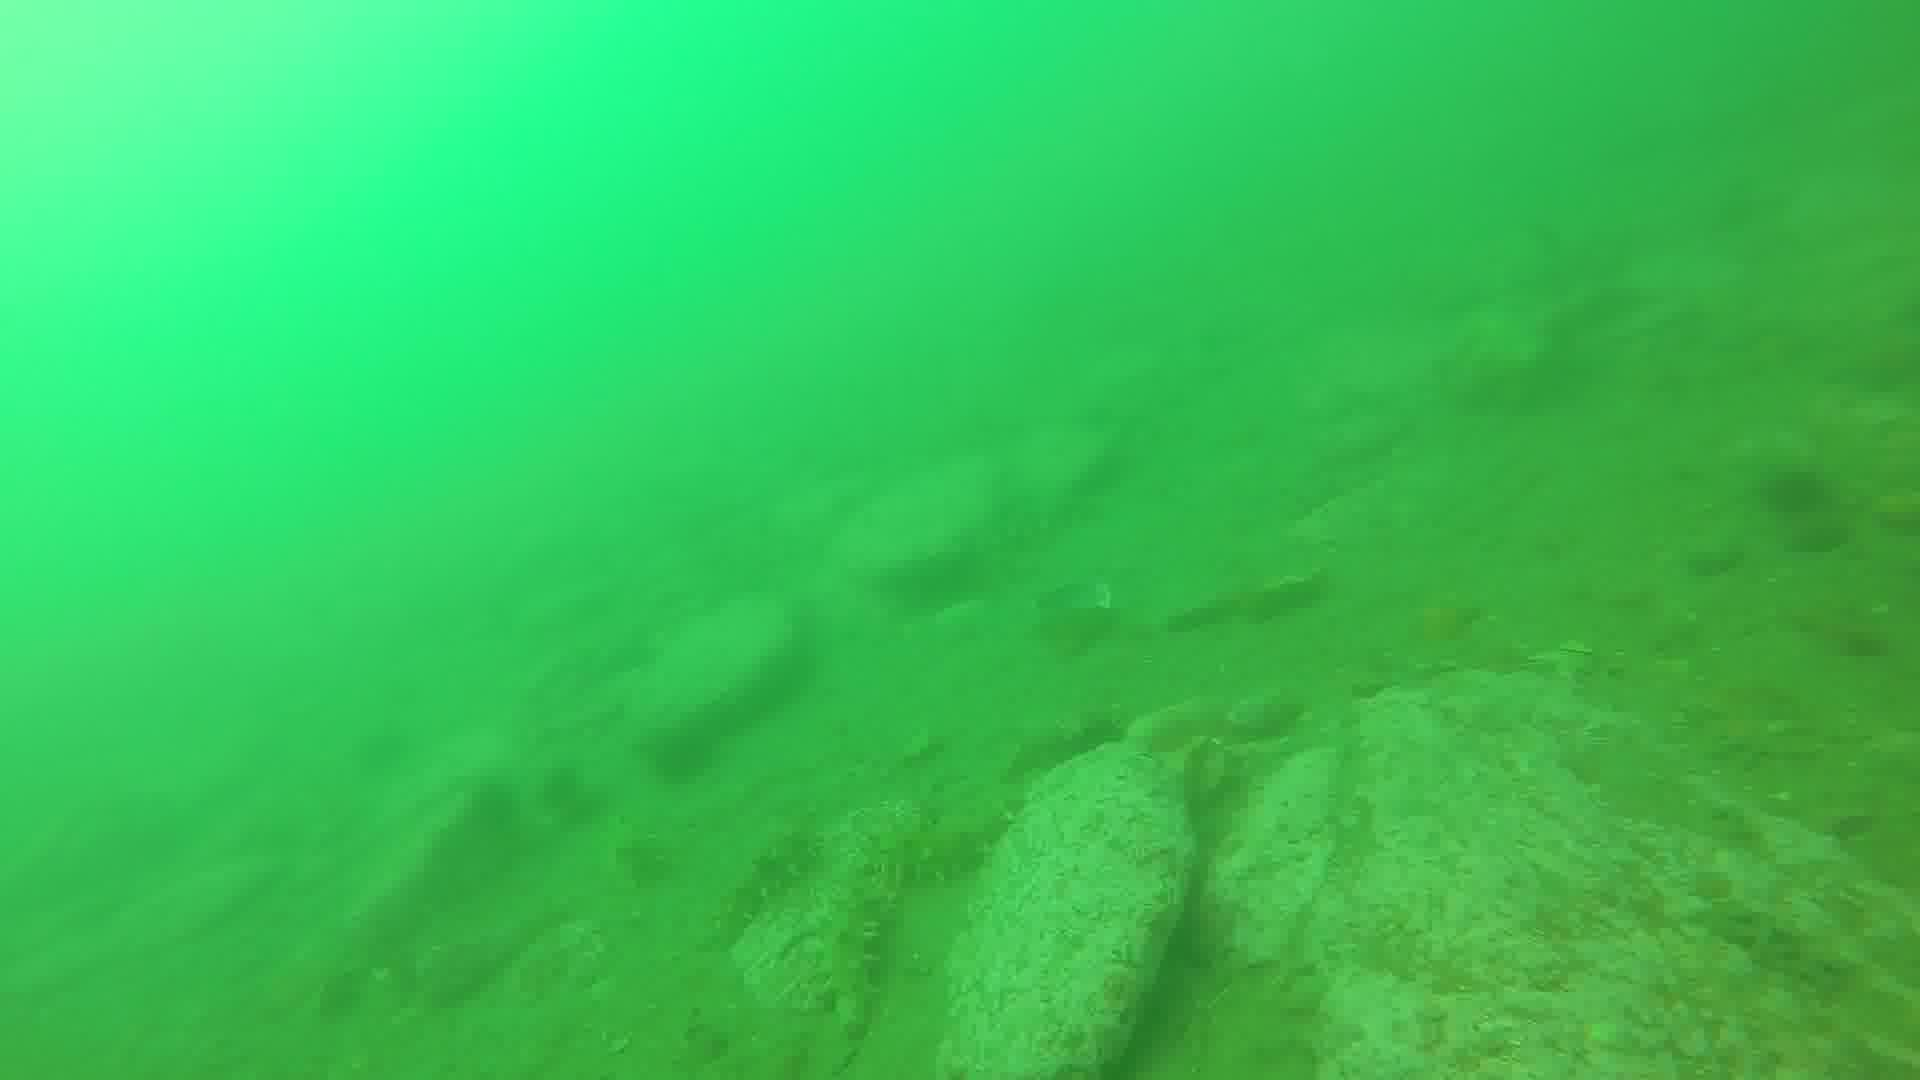holothurian: (885, 785, 1031, 881), (704, 833, 815, 953), (823, 882, 884, 1043)
